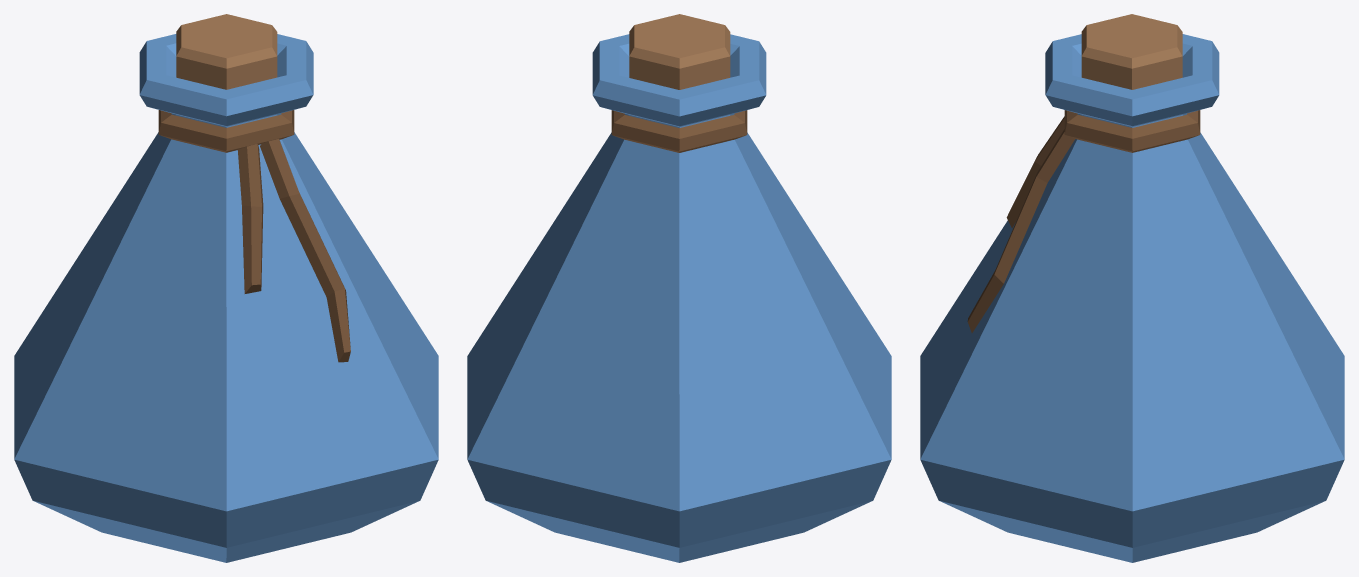
File: Blue_Potion_6(String).fbx
3 views of the same model, side by side, from view 1: azimuth 30°, elevation 25°; view 2: azimuth 150°, elevation 25°; view 3: azimuth 270°, elevation 25° (orthographic).
Visible parts, largest first — view 1: Blue_Potion_6(String); view 2: Blue_Potion_6(String); view 3: Blue_Potion_6(String).
Part boxes in pixels (left/top/right/bottom): Blue_Potion_6(String): left=14, top=14, right=438, bottom=562; Blue_Potion_6(String): left=467, top=14, right=891, bottom=562; Blue_Potion_6(String): left=920, top=14, right=1344, bottom=562.
Bounding box in the file's own units: 20.22 × 21.21 × 17.51.
